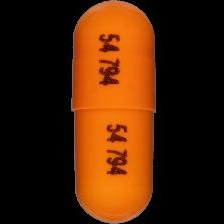50090-1354: (0, 0, 224, 224)
